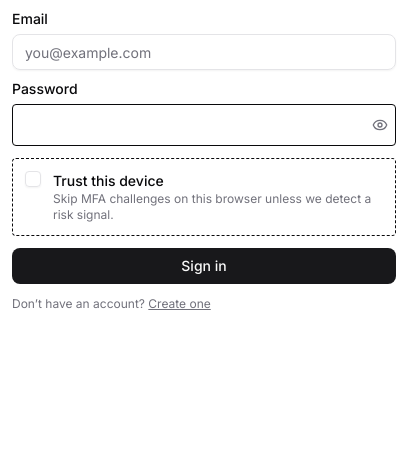
Test: LoginForm › surfaces structured error details returned by the login API
In the field labelled "Email": (204, 52) [12,34,396,70], type "user3@example.com"
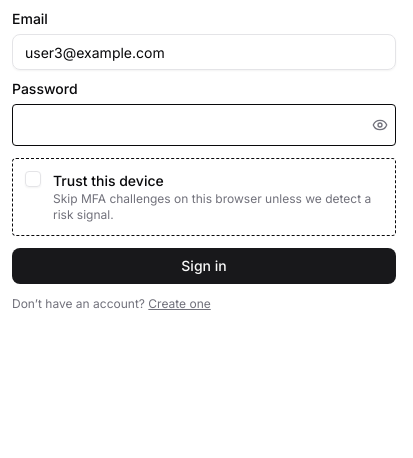
In the password field labelled "Password": (204, 125) [12,104,396,146], type "Secret789!"
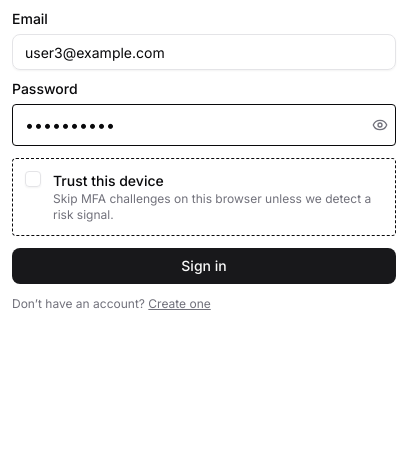
Click the button "Sign in": (204, 266) [12,248,396,284]
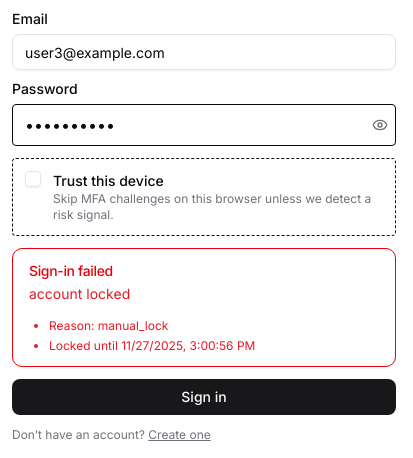
Expected: the text "Sign-in failed" is shown, [29,262,113,279]
Expected: the list item "Reason: manual_lock" is shown, [49,318,168,333]
Expected: the list item "Locked until 11/27/2025, 3:00:56 PM" is shown, [49,338,255,354]
